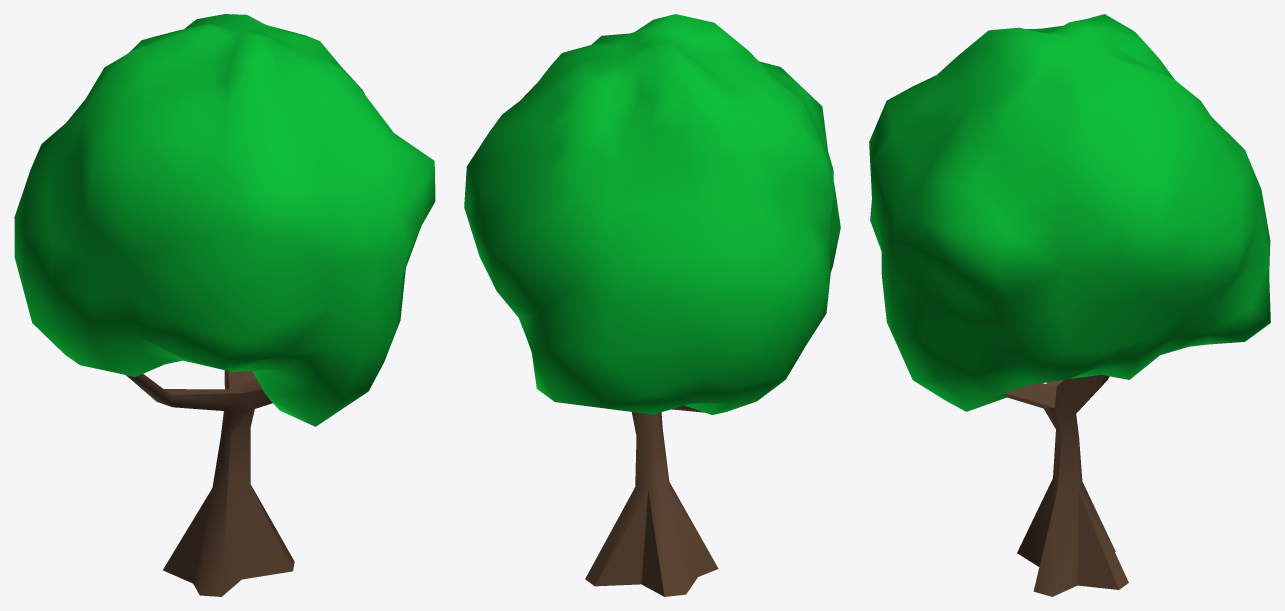
The model's file is Tree3.fbx.
The picture shows the model from 3 angles, left to right: view 1: azimuth 30°, elevation 25°; view 2: azimuth 150°, elevation 25°; view 3: azimuth 270°, elevation 25°; orthographic projection.
Visible parts, largest first — view 1: Tree_2I; view 2: Tree_2I; view 3: Tree_2I.
Boxes of the visible parts, <box> form: Tree_2I: <box>14,14,435,596</box>; Tree_2I: <box>464,14,840,596</box>; Tree_2I: <box>869,14,1270,596</box>.
Size of the model in its own units: 10195 by 15688 by 10535.
